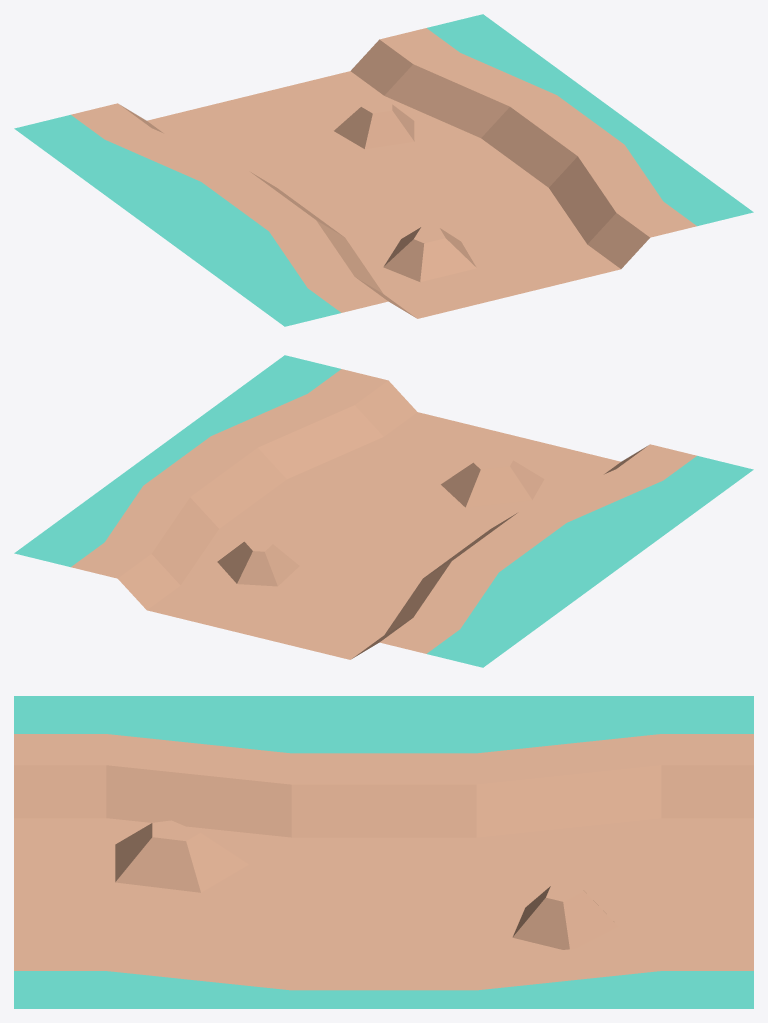
3 views of the same model, one above another, from view 1: azimuth 30°, elevation 25°; view 2: azimuth 150°, elevation 25°; view 3: azimuth 270°, elevation 25° (orthographic). The views are drawn at different scales.
Parts seen in each view (by area): view 1: ground_pathRocks; view 2: ground_pathRocks; view 3: ground_pathRocks.
Part boxes in pixels (x1,y1,x2,y2): ground_pathRocks: (14, 14, 753, 326); ground_pathRocks: (14, 355, 753, 667); ground_pathRocks: (14, 696, 753, 1008).
Bounding box in the file's own units: 1 × 0.05 × 1.
